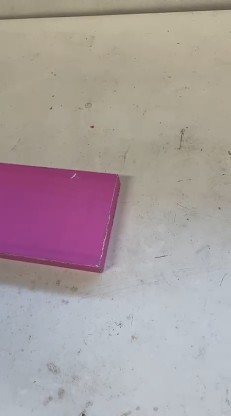pink: (0, 165, 127, 267)
